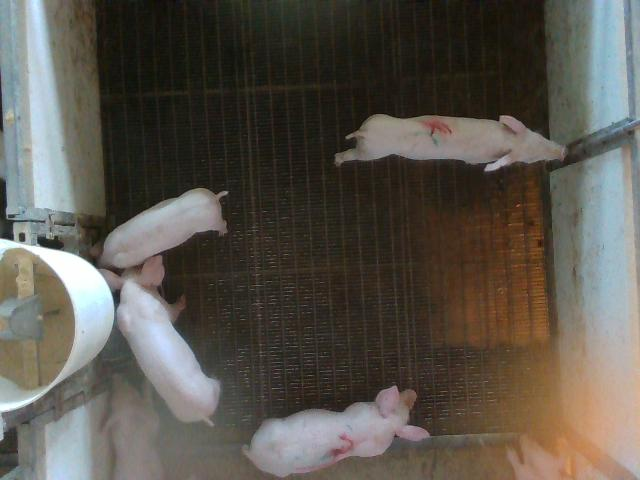pig-3: (242, 385, 429, 477)
pig-4: (335, 114, 565, 171)
